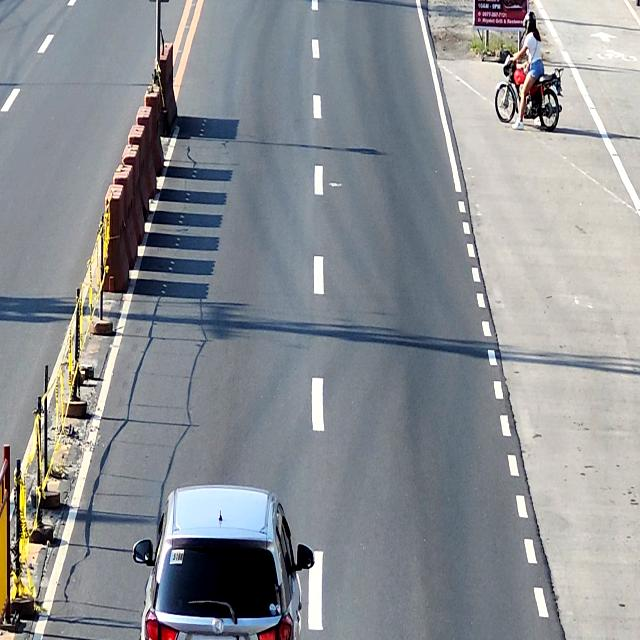Car: (133, 483, 314, 640)
Motorcycle: (494, 52, 563, 134)
